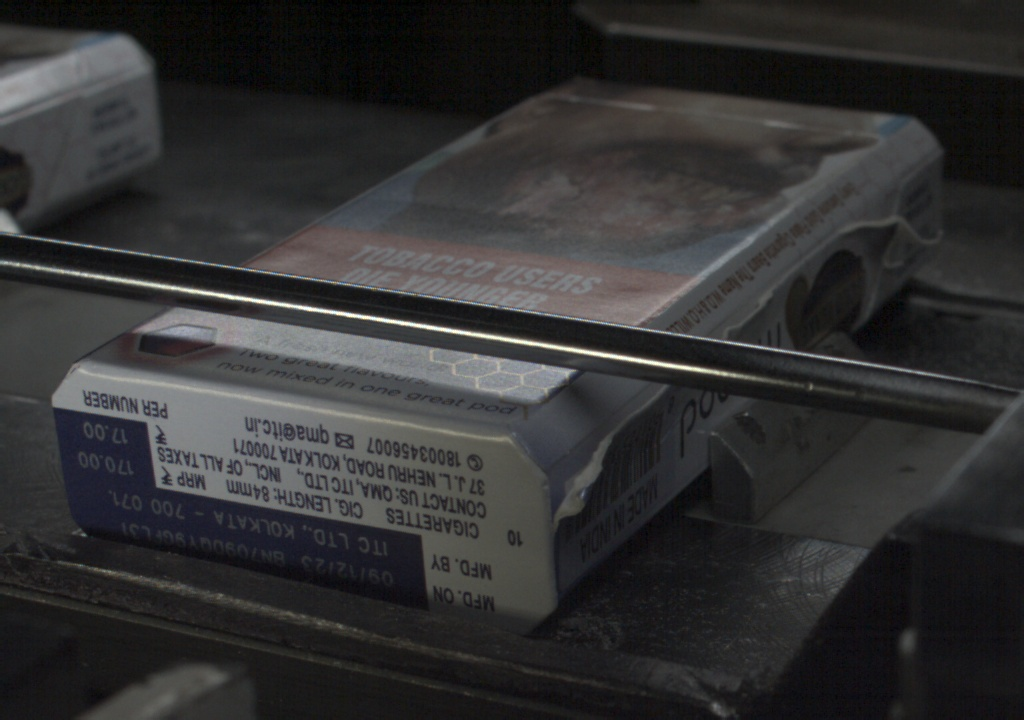g_bottom: (50, 370, 536, 636)
g_label: (68, 489, 426, 608)
g_miter: (906, 147, 943, 181)
ng_lmiter: (545, 423, 623, 526), (837, 185, 909, 253), (714, 279, 783, 337), (619, 383, 660, 425)
price: (62, 416, 154, 487)
